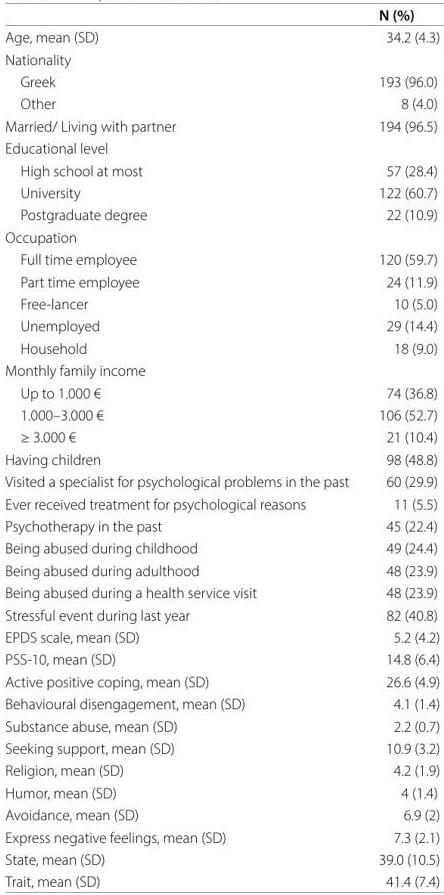table: (4, 4, 439, 890)
table column: (4, 4, 363, 890), (363, 4, 439, 890)
table column header: (4, 4, 439, 25)
table projected row header: (4, 358, 439, 381), (4, 47, 439, 69), (4, 136, 439, 158), (4, 225, 439, 247)
table row: (4, 69, 439, 92), (4, 158, 439, 181), (4, 269, 439, 292), (4, 358, 439, 381), (4, 469, 439, 492), (4, 558, 439, 581), (4, 647, 439, 670), (4, 758, 439, 781), (4, 847, 439, 870), (4, 25, 439, 47), (4, 47, 439, 69), (4, 92, 439, 114), (4, 114, 439, 136), (4, 136, 439, 158), (4, 181, 439, 203), (4, 203, 439, 225), (4, 225, 439, 247), (4, 247, 439, 269), (4, 292, 439, 314), (4, 314, 439, 336), (4, 336, 439, 358), (4, 381, 439, 403), (4, 403, 439, 425), (4, 425, 439, 447), (4, 447, 439, 469), (4, 492, 439, 514), (4, 514, 439, 536), (4, 536, 439, 558), (4, 581, 439, 603), (4, 603, 439, 625), (4, 625, 439, 647), (4, 670, 439, 692), (4, 692, 439, 714), (4, 714, 439, 736), (4, 736, 439, 758), (4, 781, 439, 803), (4, 803, 439, 825), (4, 825, 439, 847), (4, 4, 439, 25), (4, 870, 439, 890)
